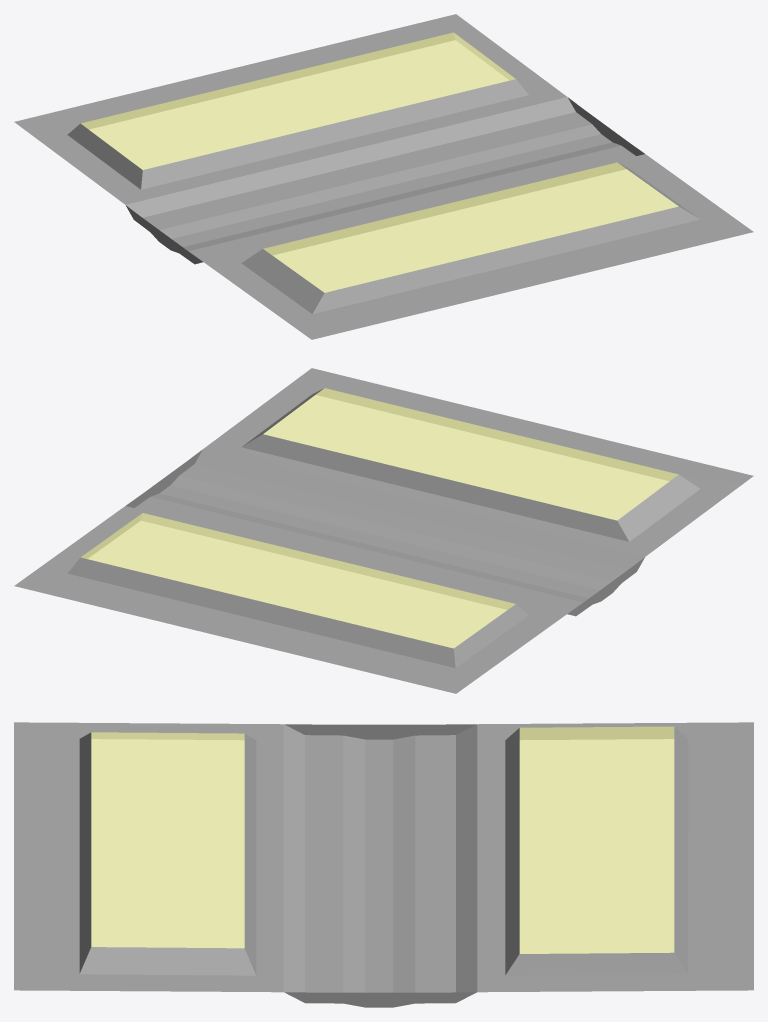
File: Ceiling_B.fbx
3 views of the same model, one above another, from view 1: azimuth 30°, elevation 25°; view 2: azimuth 150°, elevation 25°; view 3: azimuth 270°, elevation 25° (orthographic). The views are drawn at different scales.
Visible parts, largest first — view 1: Ceiling_D; view 2: Ceiling_D; view 3: Ceiling_D.
Boxes of the visible parts, box(x1,y1,x2,y2) form: Ceiling_D: box(14, 14, 753, 339); Ceiling_D: box(14, 368, 753, 693); Ceiling_D: box(14, 722, 753, 1007).
Bounding box in the file's own units: 3 × 3.5 × 0.177.
